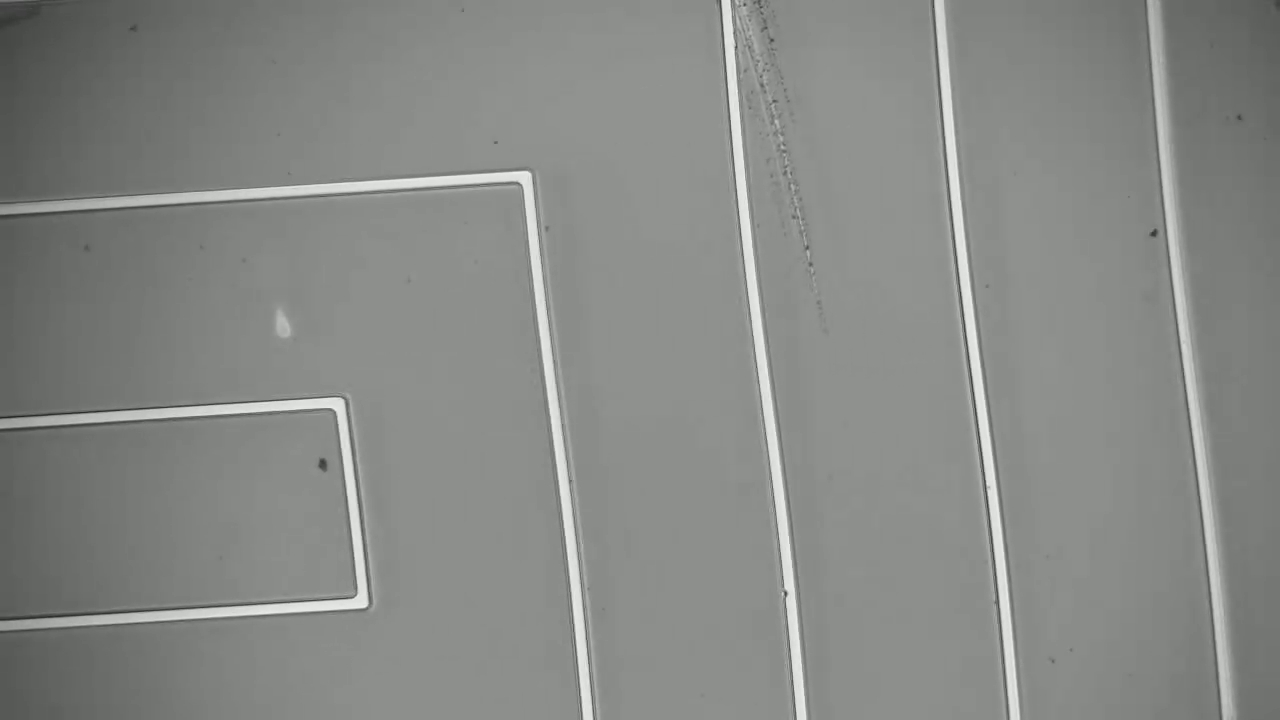scratch: (724, 1, 837, 318)
